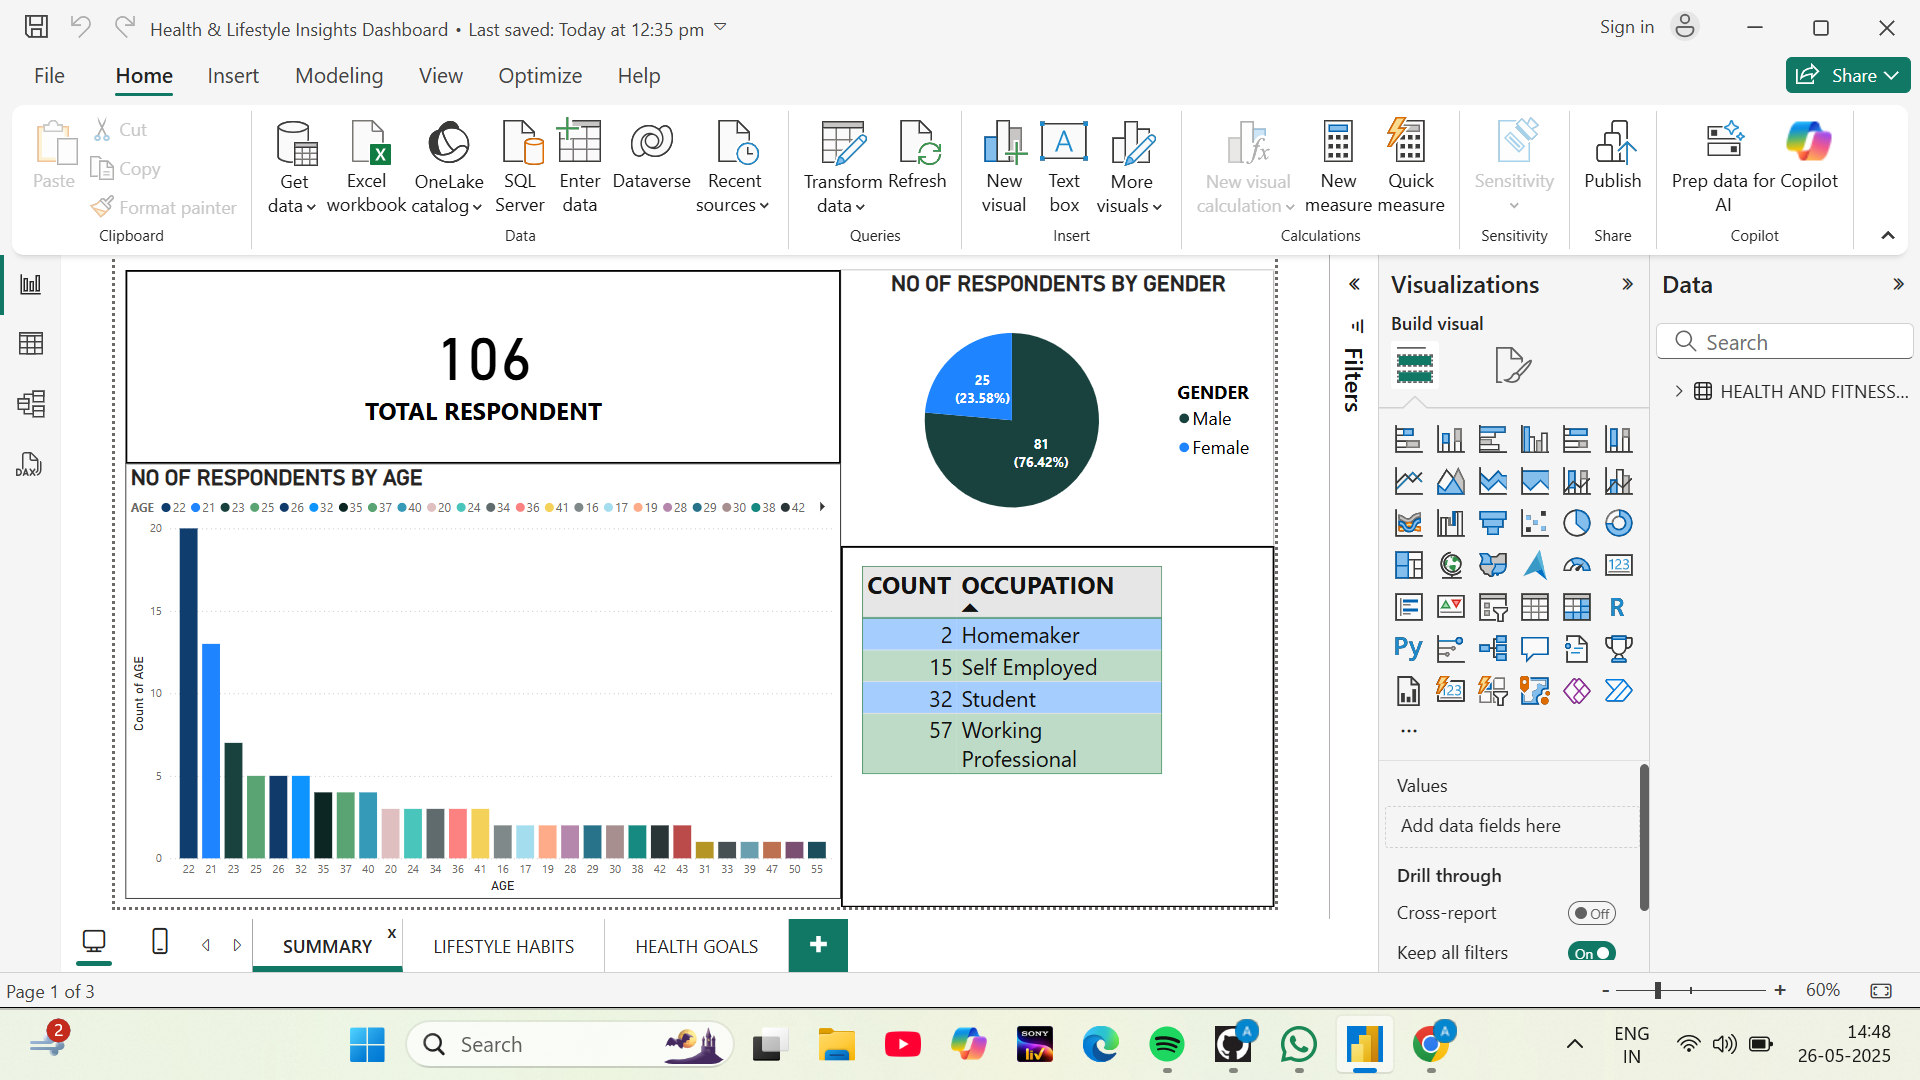

The page's visual inventory and layout, read from the dashboard file:
{"tool":"powerbi","page":{"name":"SUMMARY","canvas":[1280,720],"ordinal":0},"visuals":[{"type":"card","title":"TOTAL RESPONDENTS","fields":{"Values":["CountNonNull(HEALTH AND FITNESS SURVEY.AGE)"]},"box":[11.6,16.6,790.1,213.7],"z":0},{"type":"columnChart","title":"NO OF RESPONDENTS BY AGE","fields":{"Y":["CountNonNull(HEALTH AND FITNESS SURVEY.AGE)"],"Category":["HEALTH AND FITNESS SURVEY.AGE"],"Series":["HEALTH AND FITNESS SURVEY.AGE"]},"box":[11.6,230.3,790.1,480.4],"z":1000},{"type":"pieChart","title":"NO OF RESPONDENTS BY GENDER","fields":{"Y":["CountNonNull(HEALTH AND FITNESS SURVEY.GENDER)"],"Category":["HEALTH AND FITNESS SURVEY.GENDER"]},"box":[801.7,16.6,478.7,304.8],"z":2000},{"type":"tableEx","fields":{"Values":["HEALTH AND FITNESS SURVEY.AGE","HEALTH AND FITNESS SURVEY.EMPLOYMENT STATUS"]},"box":[802,321.4,478.7,399.2],"z":3000}]}

Visuals, with their boxes on the page's 1280x720 design canvas (x1, y1, x2, y2). These are canvas units, not pixel positions in the 1920x1080 screenshot, which may show the page scaled, cropped or inside an application window:
"TOTAL RESPONDENTS" card: box(12, 17, 802, 230)
"NO OF RESPONDENTS BY AGE" columnChart: box(12, 230, 802, 711)
"NO OF RESPONDENTS BY GENDER" pieChart: box(802, 17, 1280, 321)
tableEx - HEALTH AND FITNESS SURVEY.AGE x HEALTH AND FITNESS SURVEY.EMPLOYMENT STATUS: box(802, 321, 1281, 721)
